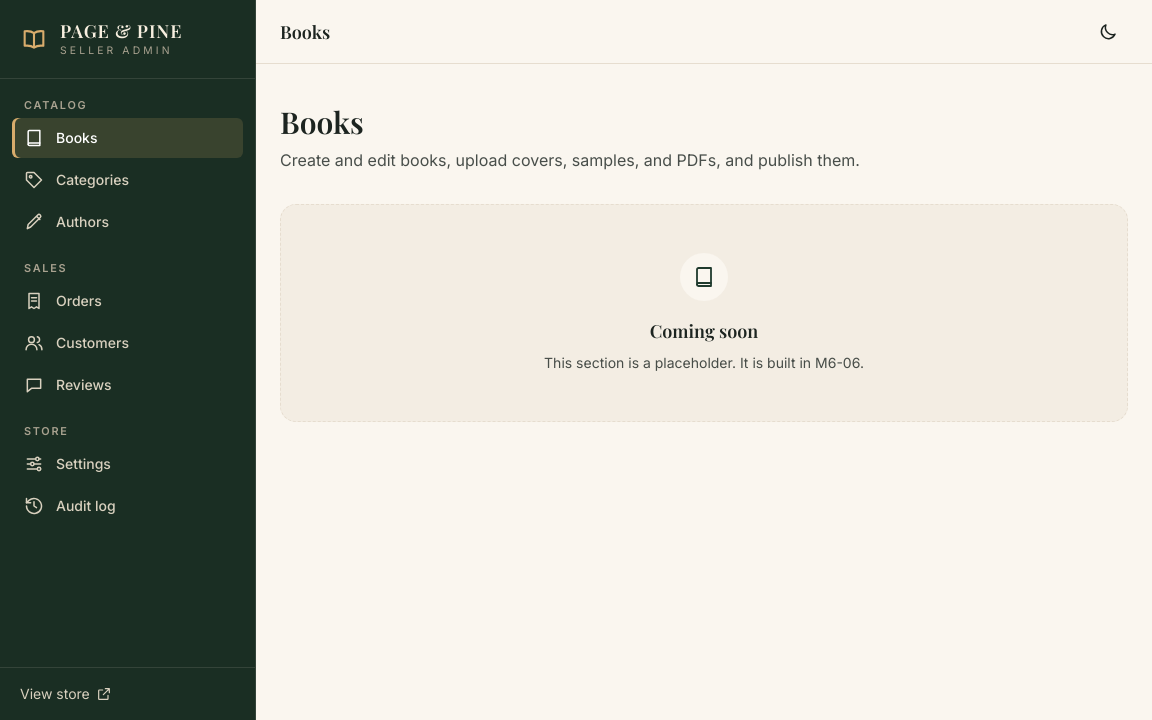
Test case: admin sidebar › clicking "Authors" shows the matching page
The width and height of the screenshot is (1152, 720).
Click the link "Authors": (66, 222) [24,212,109,232]
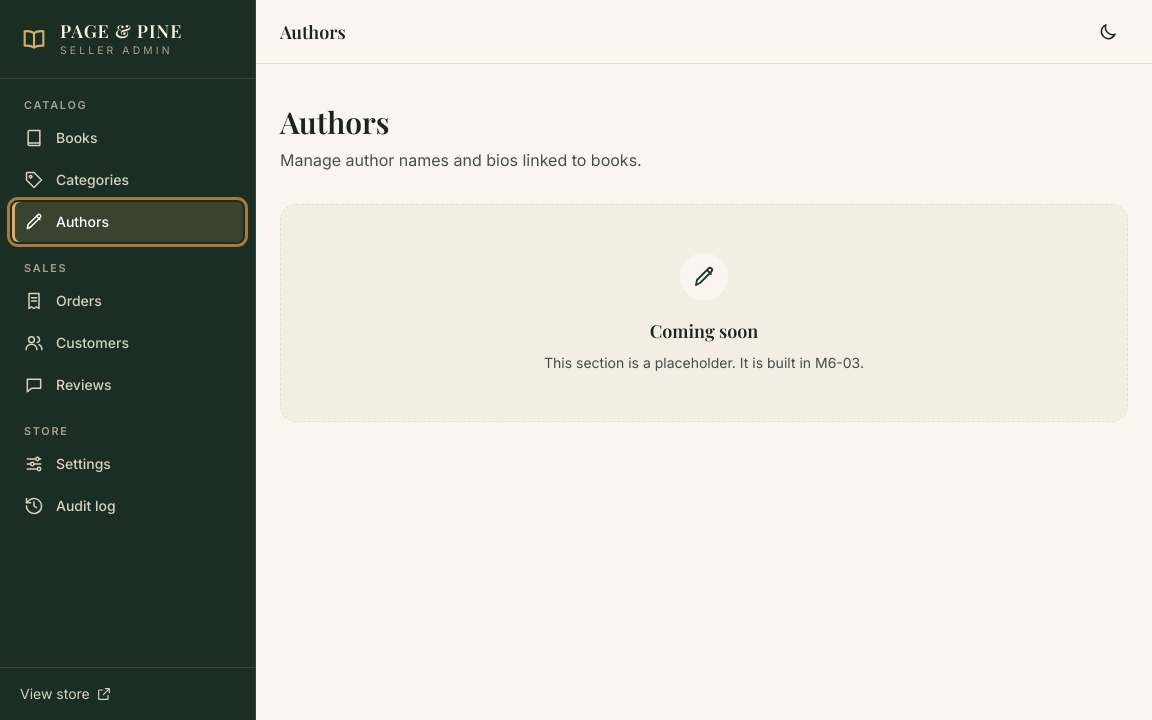
Now the heading "Authors" is shown, box [280,102,390,142]
Now the text "Authors" is shown, box [280,20,346,44]
Now the text "Manage author names and bios linked to books." is shown, box [280,150,642,170]
